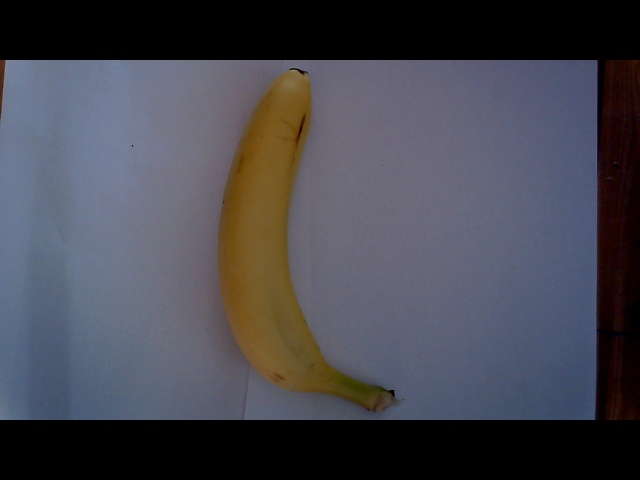banana: (208, 71, 385, 409)
